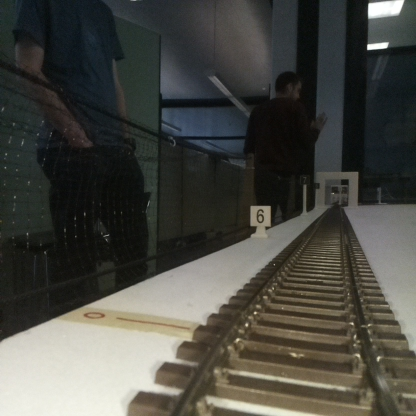white-stop-6: (250, 204, 270, 238)
